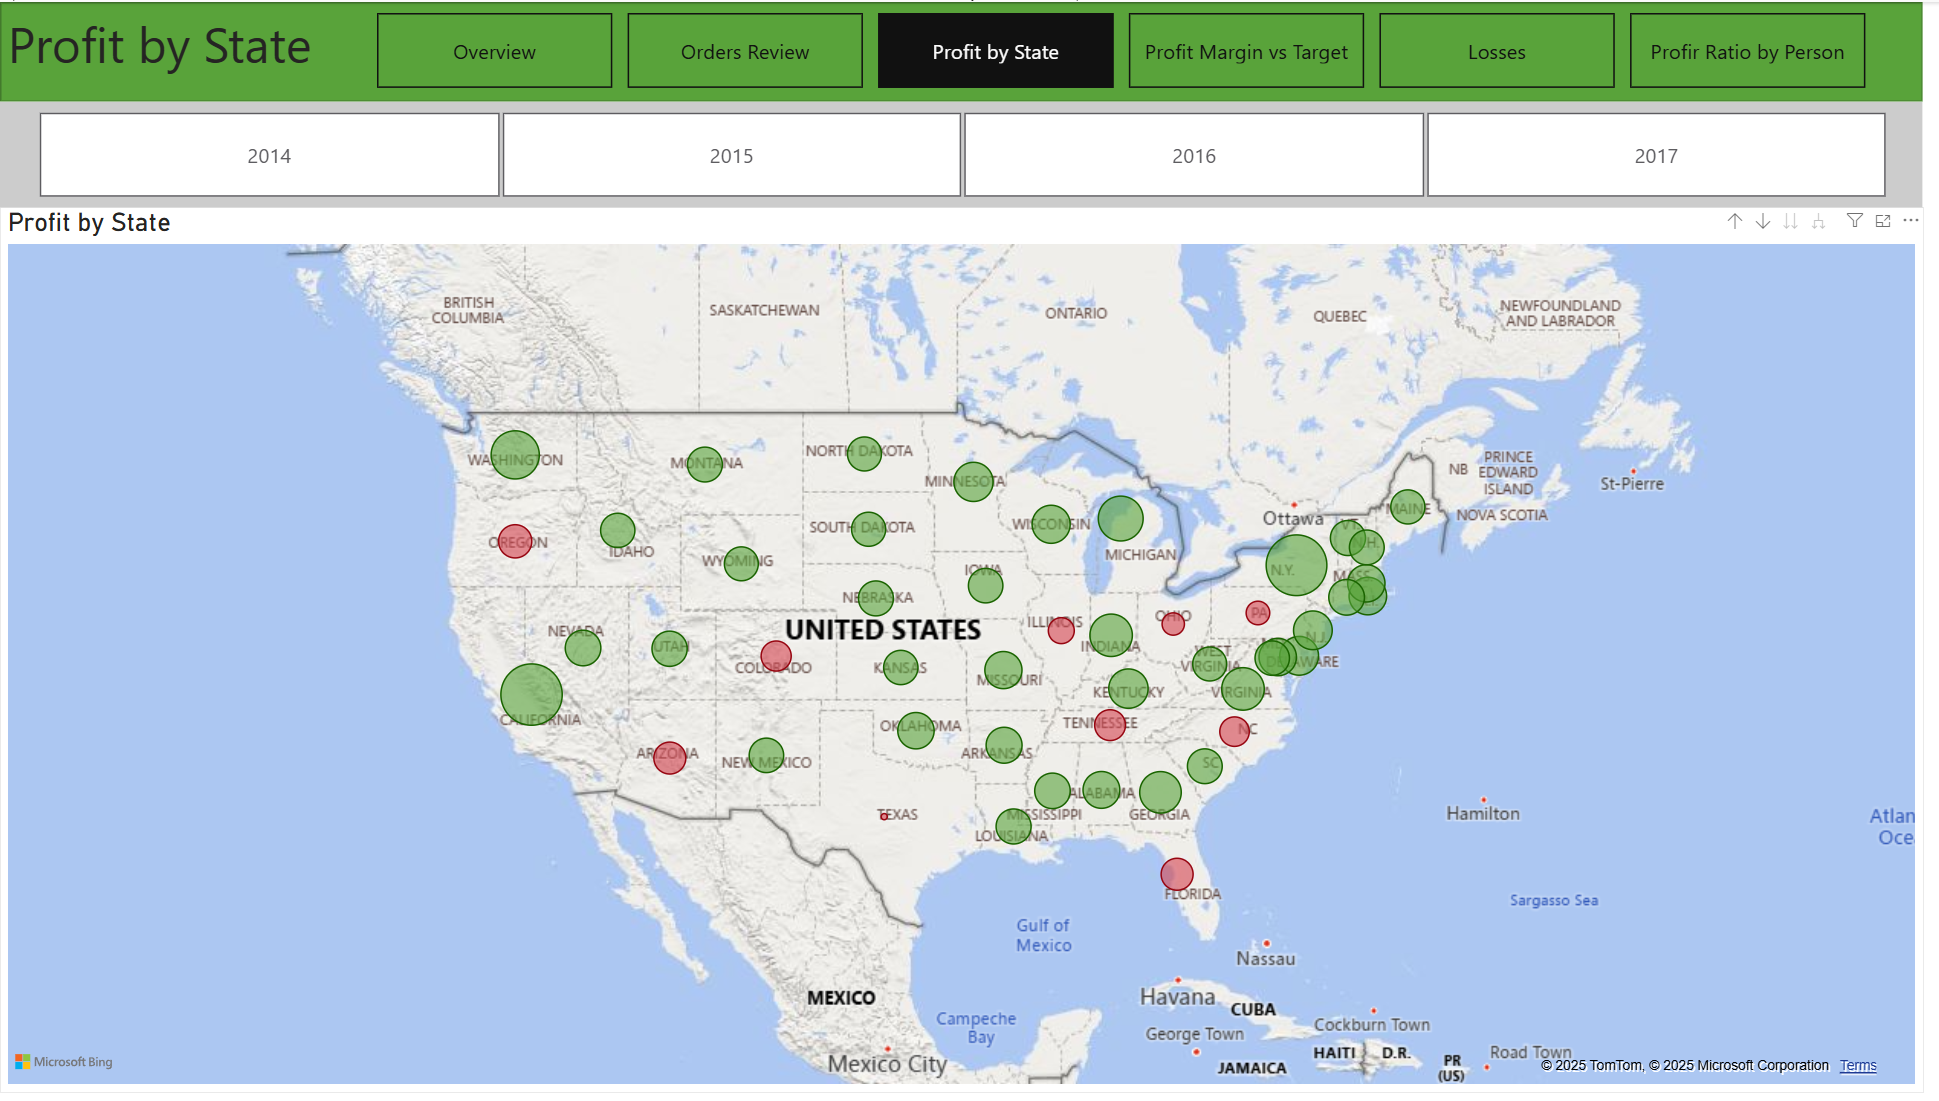

The dashboard page shown, as its layout file describes it:
{"tool":"powerbi","page":{"name":"Profit by State","canvas":[1280,720],"ordinal":2},"visuals":[{"type":"map","title":"Profit by State","fields":{"Category":["Orders.Country","Orders.State"],"Size":["Sum(Orders.Profit)"]},"box":[10.8,134.4,1258.4,579.3],"z":0},{"type":"slicer","fields":{"Values":["Orders.Order Date.Variation.Date Hierarchy.Year"]},"box":[10.5,65.4,1258.4,68.7],"z":2000},{"type":"shape","box":[10.5,0,1258.4,65.4],"z":3000},{"type":"textbox","box":[10.8,0,255.1,65.4],"z":4000},{"type":"pageNavigator","box":[257.4,7.2,976.4,49.8],"z":5000}]}

Visuals, with their boxes in screenshot pixels (x1, y1, x2, y2), scaled from the page's 1280x720 canvas onto the 1939x1101 screenshot:
"Profit by State" map: (16, 206, 1923, 1091)
slicer - Orders.Order Date.Variation.Date Hierarchy.Year: (16, 100, 1922, 205)
shape: (16, 0, 1922, 100)
textbox: (16, 0, 403, 100)
pageNavigator: (390, 11, 1869, 87)
